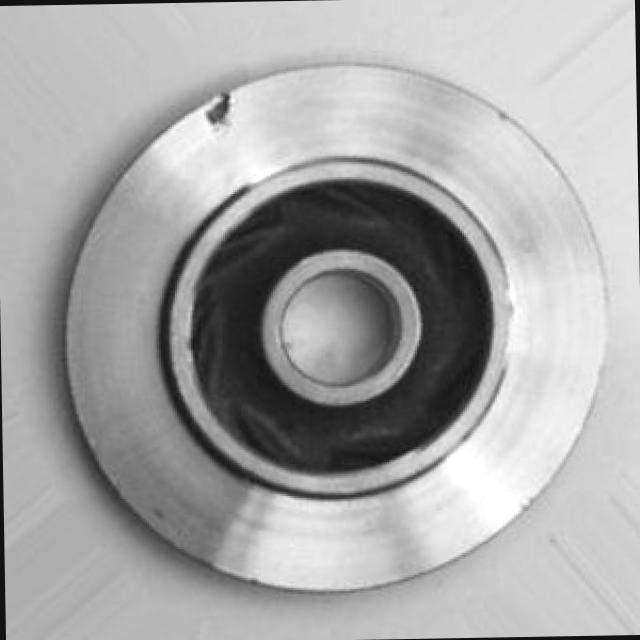Defect: (200, 87, 247, 130)
